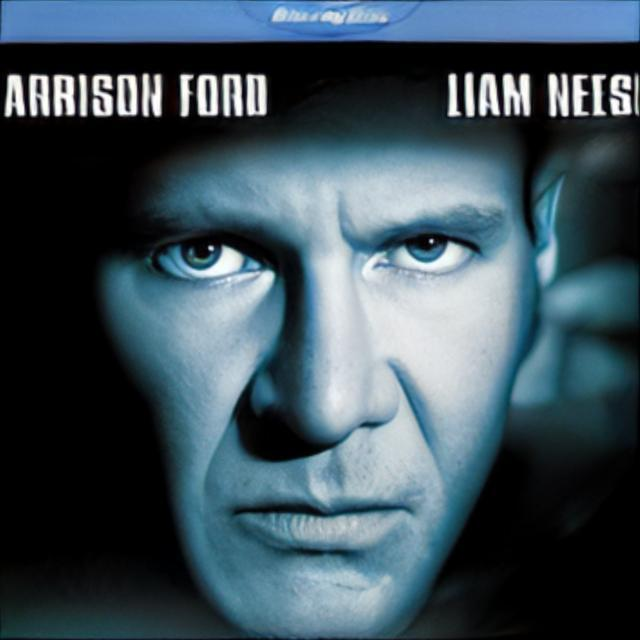anger: (95, 100, 527, 640)
